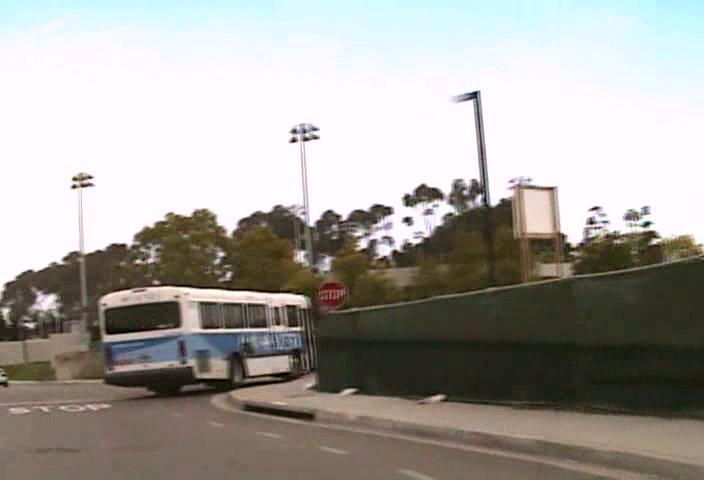stop: (315, 279, 346, 310)
